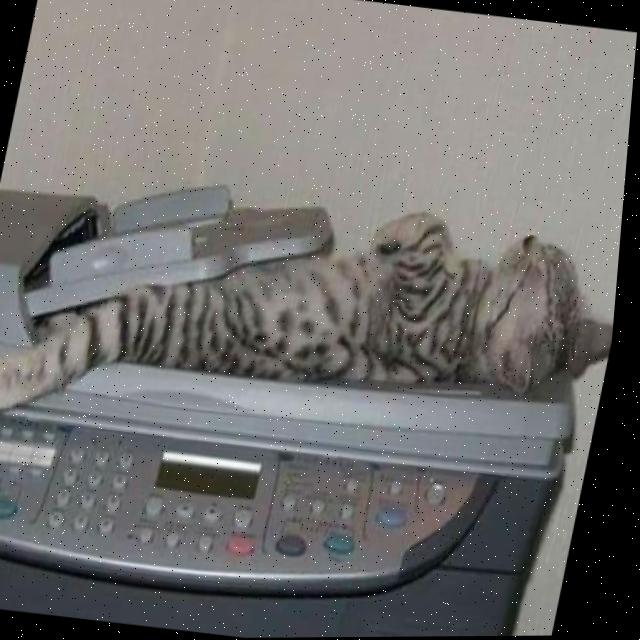Cats: (0, 152, 630, 463)
